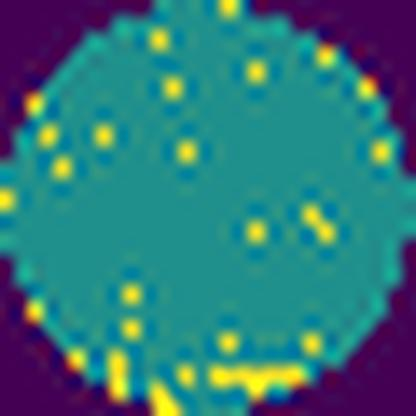Scratch: (208, 363, 308, 405)
